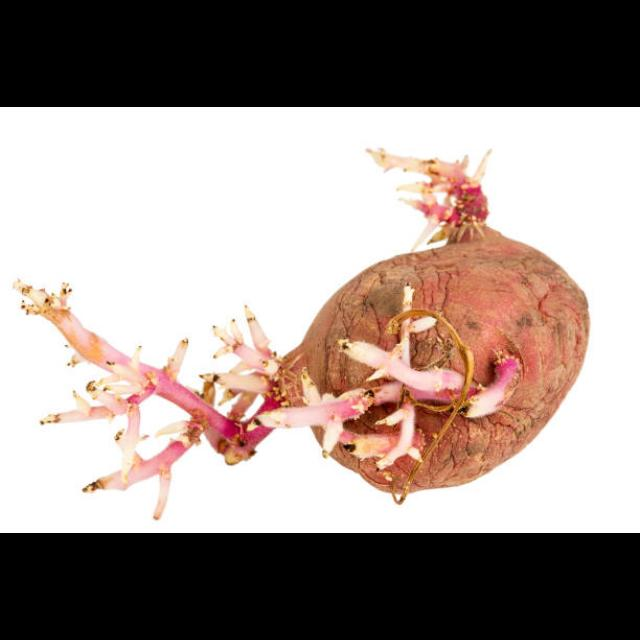Sprouted potato: (2, 107, 626, 497)
